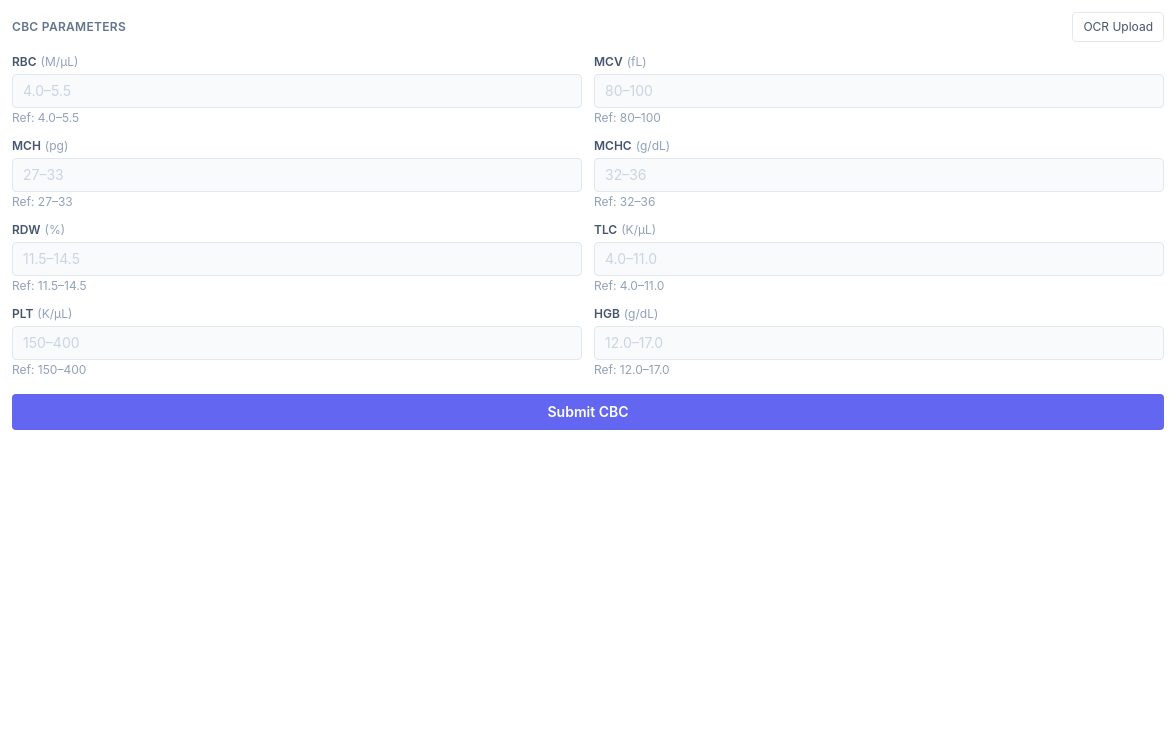
Test: CBCForm › shows validation errors for all fields when submitted empty
Click the button with test id "submit-cbc" at (588, 412), box [12, 394, 1164, 430]
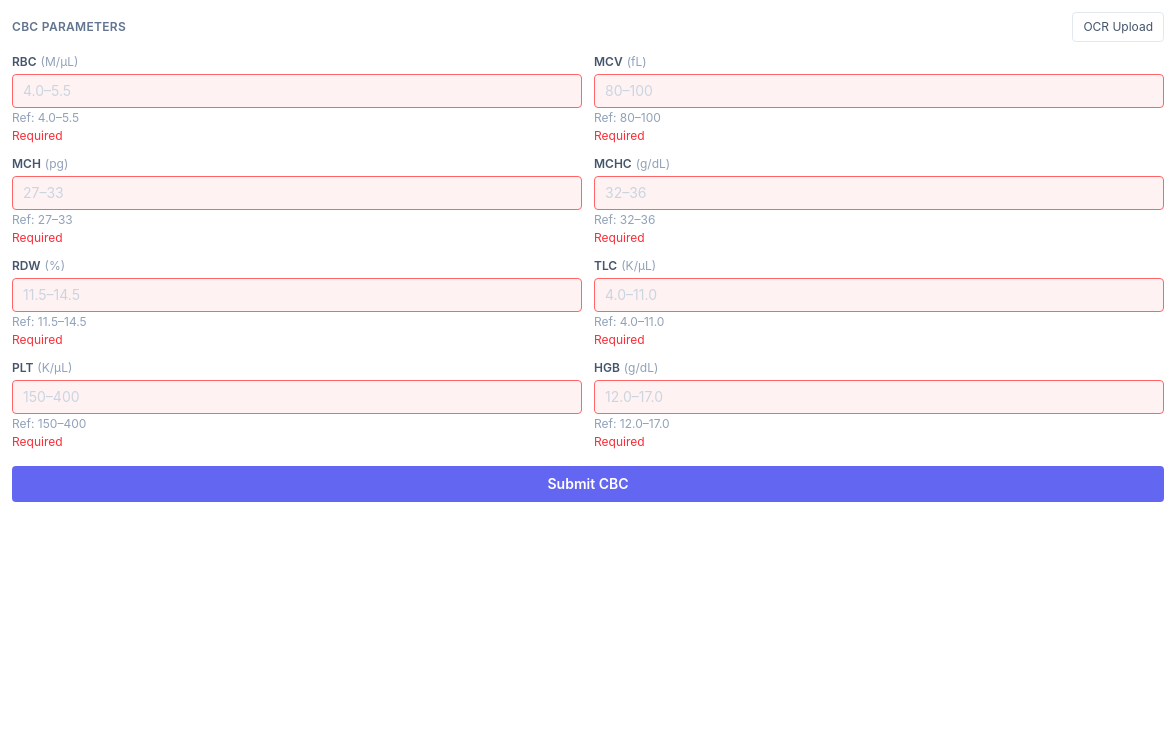
Expected: the text with test id "error-hgb" reads "Required", [594, 434, 645, 449]
